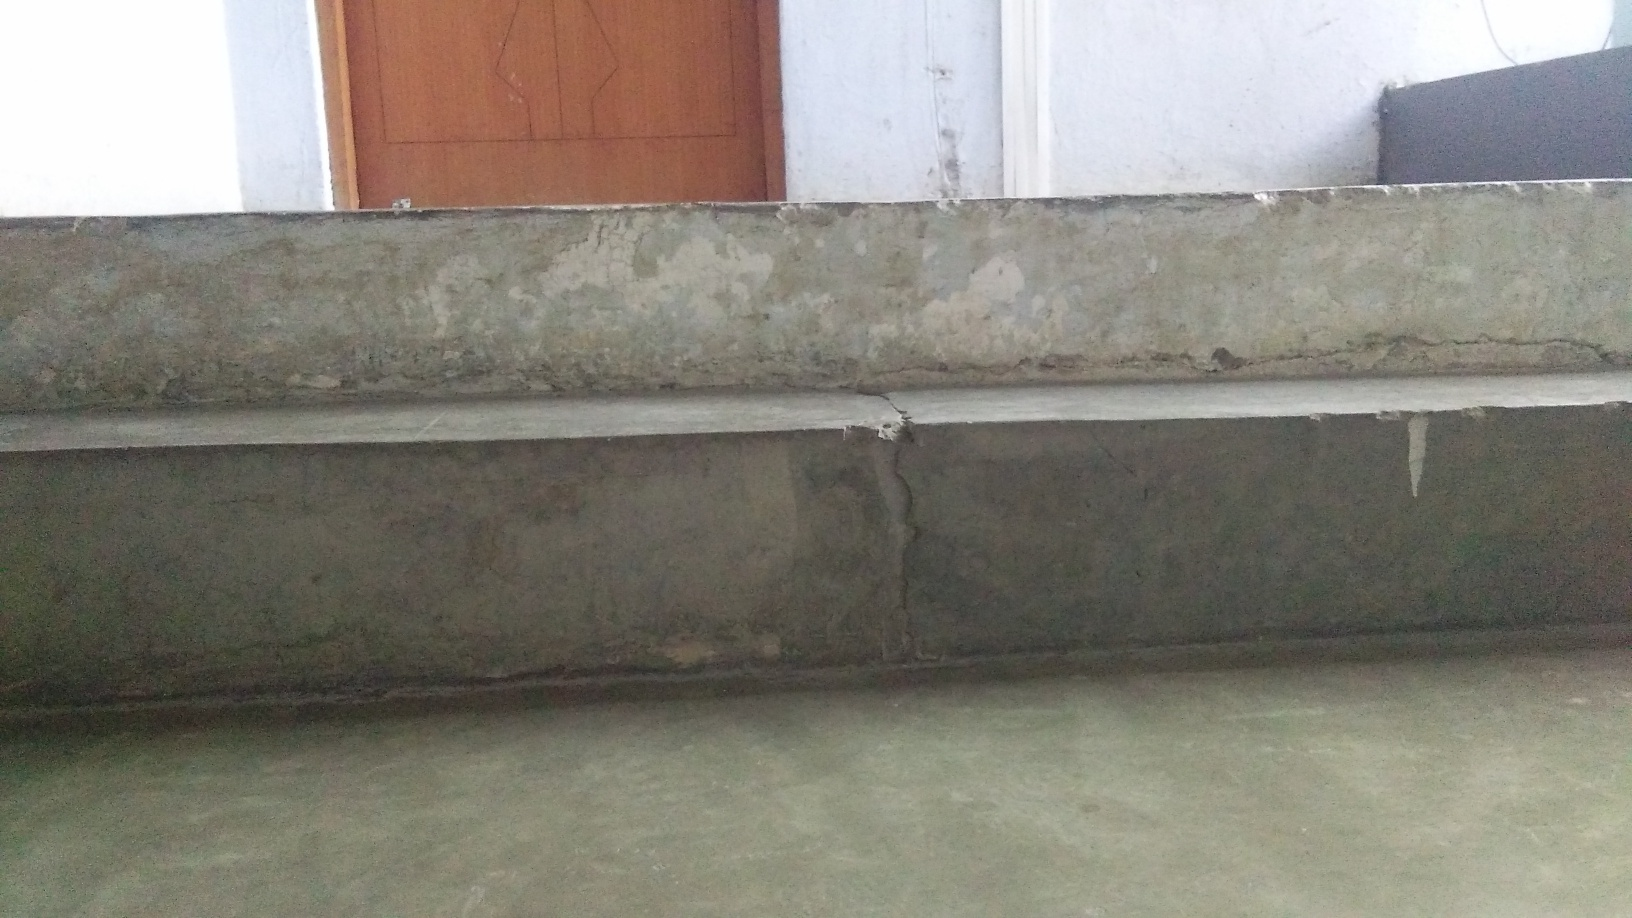stairs_up: (7, 192, 1632, 658)
